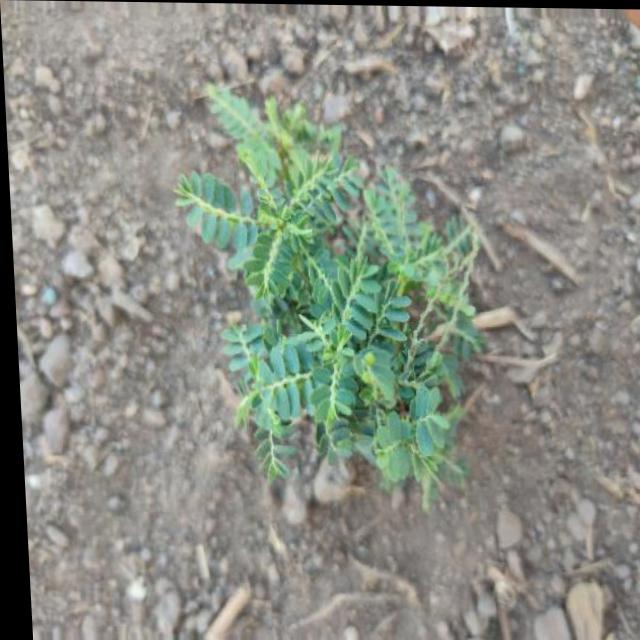weed: (166, 85, 504, 524)
